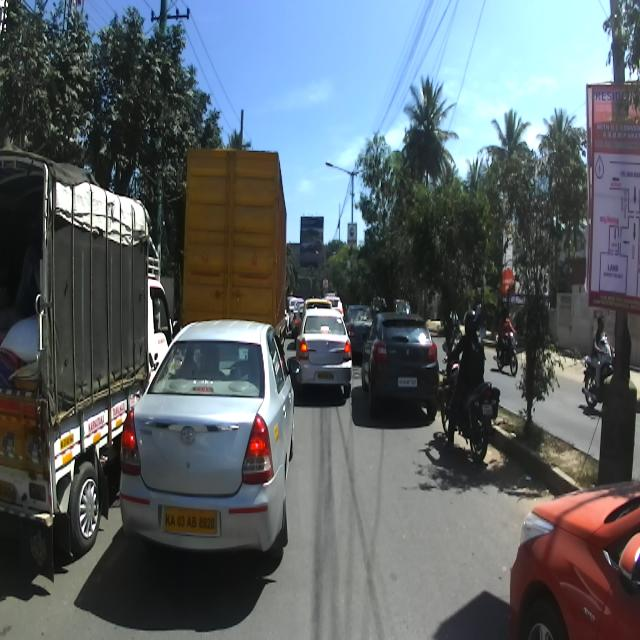car ahead at: (124, 310, 304, 569), (368, 312, 440, 420), (294, 304, 358, 406)
motorcycle ahead at: (442, 364, 499, 464)
